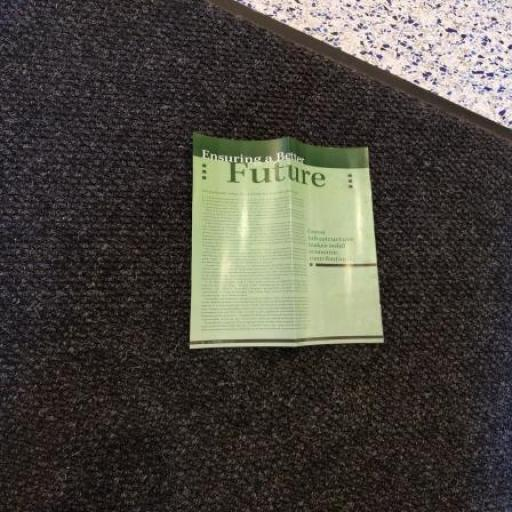paper: (146, 35, 444, 432)
